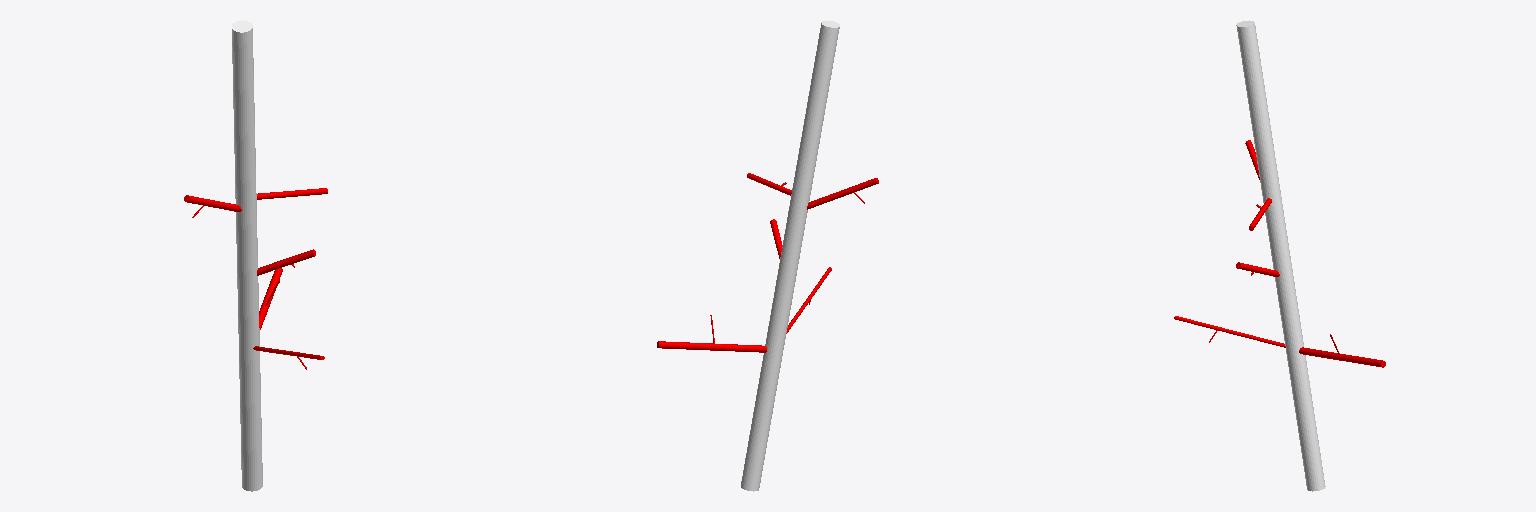
URDF robot description (tree_21.urdf):
<?xml version='1.0' encoding='UTF-8'?>
<robot name="tree_21.urdf">
  <link name="branch_0">
    <inertial>
      <origin xyz="0.0 0.0 0.0" rpy="0.0 -0.0 0.0"/>
      <mass value="0.1"/>
      <inertia ixx="0.001" ixy="0.0" ixz="0.0" iyy="0.001" iyz="0.0" izz="0.001"/>
    </inertial>
    <visual name="branch_0_visual">
      <geometry>
        <cylinder radius="0.12687712250516958" length="6.709048198873801"/>
      </geometry>
      <material name="branch_material"/>
      <origin xyz="-0.34615459006411586 -0.47765721979317016 3.3022496141055044" rpy="5.551115123125783e-17 0.1767705928332889 -2.197902912711305"/>
    </visual>
    <collision name="branch_0_collision">
      <geometry>
        <cylinder radius="0.12687712250516958" length="6.709048198873801"/>
      </geometry>
      <origin xyz="-0.34615459006411586 -0.47765721979317016 3.3022496141055044" rpy="5.551115123125783e-17 0.1767705928332889 -2.197902912711305"/>
    </collision>
  </link>
  <link name="branch_1">
    <inertial>
      <origin xyz="0.0 0.0 0.0" rpy="0.0 -0.0 0.0"/>
      <mass value="0.1"/>
      <inertia ixx="0.001" ixy="0.0" ixz="0.0" iyy="0.001" iyz="0.0" izz="0.001"/>
    </inertial>
    <visual name="branch_1_visual">
      <geometry>
        <cylinder radius="0.042855671939592034" length="1.1986423929638461"/>
      </geometry>
      <material name="semantic_material"/>
      <origin xyz="0.0 0.0 0.0" rpy="0.0 -0.0 0.0"/>
    </visual>
    <collision name="branch_1_collision">
      <geometry>
        <cylinder radius="0.042855671939592034" length="1.1986423929638461"/>
      </geometry>
      <origin xyz="0.0 0.0 0.0" rpy="0.0 -0.0 0.0"/>
    </collision>
  </link>
  <link name="branch_2">
    <inertial>
      <origin xyz="0.0 0.0 0.0" rpy="0.0 -0.0 0.0"/>
      <mass value="0.1"/>
      <inertia ixx="0.001" ixy="0.0" ixz="0.0" iyy="0.001" iyz="0.0" izz="0.001"/>
    </inertial>
    <visual name="branch_2_visual">
      <geometry>
        <cylinder radius="0.01005518302327883" length="0.2539100690972376"/>
      </geometry>
      <material name="semantic_material"/>
      <origin xyz="0.0 0.0 0.0" rpy="0.0 -0.0 0.0"/>
    </visual>
    <collision name="branch_2_collision">
      <geometry>
        <cylinder radius="0.01005518302327883" length="0.2539100690972376"/>
      </geometry>
      <origin xyz="0.0 0.0 0.0" rpy="0.0 -0.0 0.0"/>
    </collision>
  </link>
  <link name="branch_3">
    <inertial>
      <origin xyz="0.0 0.0 0.0" rpy="0.0 -0.0 0.0"/>
      <mass value="0.1"/>
      <inertia ixx="0.001" ixy="0.0" ixz="0.0" iyy="0.001" iyz="0.0" izz="0.001"/>
    </inertial>
    <visual name="branch_3_visual">
      <geometry>
        <cylinder radius="0.037442996157046556" length="0.9996858261192967"/>
      </geometry>
      <material name="semantic_material"/>
      <origin xyz="0.0 0.0 0.0" rpy="0.0 -0.0 0.0"/>
    </visual>
    <collision name="branch_3_collision">
      <geometry>
        <cylinder radius="0.037442996157046556" length="0.9996858261192967"/>
      </geometry>
      <origin xyz="0.0 0.0 0.0" rpy="0.0 -0.0 0.0"/>
    </collision>
  </link>
  <link name="branch_4">
    <inertial>
      <origin xyz="0.0 0.0 0.0" rpy="0.0 -0.0 0.0"/>
      <mass value="0.1"/>
      <inertia ixx="0.001" ixy="0.0" ixz="0.0" iyy="0.001" iyz="0.0" izz="0.001"/>
    </inertial>
    <visual name="branch_4_visual">
      <geometry>
        <cylinder radius="0.014675000629811988" length="0.11622880489106664"/>
      </geometry>
      <material name="semantic_material"/>
      <origin xyz="0.0 0.0 0.0" rpy="0.0 -0.0 0.0"/>
    </visual>
    <collision name="branch_4_collision">
      <geometry>
        <cylinder radius="0.014675000629811988" length="0.11622880489106664"/>
      </geometry>
      <origin xyz="0.0 0.0 0.0" rpy="0.0 -0.0 0.0"/>
    </collision>
  </link>
  <link name="branch_5">
    <inertial>
      <origin xyz="0.0 0.0 0.0" rpy="0.0 -0.0 0.0"/>
      <mass value="0.1"/>
      <inertia ixx="0.001" ixy="0.0" ixz="0.0" iyy="0.001" iyz="0.0" izz="0.001"/>
    </inertial>
    <visual name="branch_5_visual">
      <geometry>
        <cylinder radius="0.026214916295196917" length="1.7043222168082077"/>
      </geometry>
      <material name="semantic_material"/>
      <origin xyz="0.0 0.0 0.0" rpy="0.0 -0.0 0.0"/>
    </visual>
    <collision name="branch_5_collision">
      <geometry>
        <cylinder radius="0.026214916295196917" length="1.7043222168082077"/>
      </geometry>
      <origin xyz="0.0 0.0 0.0" rpy="0.0 -0.0 0.0"/>
    </collision>
  </link>
  <link name="branch_6">
    <inertial>
      <origin xyz="0.0 0.0 0.0" rpy="0.0 -0.0 0.0"/>
      <mass value="0.1"/>
      <inertia ixx="0.001" ixy="0.0" ixz="0.0" iyy="0.001" iyz="0.0" izz="0.001"/>
    </inertial>
    <visual name="branch_6_visual">
      <geometry>
        <cylinder radius="0.01" length="0.22334523871385759"/>
      </geometry>
      <material name="semantic_material"/>
      <origin xyz="0.0 0.0 0.0" rpy="0.0 -0.0 0.0"/>
    </visual>
    <collision name="branch_6_collision">
      <geometry>
        <cylinder radius="0.01" length="0.22334523871385759"/>
      </geometry>
      <origin xyz="0.0 0.0 0.0" rpy="0.0 -0.0 0.0"/>
    </collision>
  </link>
  <link name="branch_7">
    <inertial>
      <origin xyz="0.0 0.0 0.0" rpy="0.0 -0.0 0.0"/>
      <mass value="0.1"/>
      <inertia ixx="0.001" ixy="0.0" ixz="0.0" iyy="0.001" iyz="0.0" izz="0.001"/>
    </inertial>
    <visual name="branch_7_visual">
      <geometry>
        <cylinder radius="0.04362045346198234" length="0.9346518274863176"/>
      </geometry>
      <material name="semantic_material"/>
      <origin xyz="0.0 0.0 0.0" rpy="0.0 -0.0 0.0"/>
    </visual>
    <collision name="branch_7_collision">
      <geometry>
        <cylinder radius="0.04362045346198234" length="0.9346518274863176"/>
      </geometry>
      <origin xyz="0.0 0.0 0.0" rpy="0.0 -0.0 0.0"/>
    </collision>
  </link>
  <link name="branch_8">
    <inertial>
      <origin xyz="0.0 0.0 0.0" rpy="0.0 -0.0 0.0"/>
      <mass value="0.1"/>
      <inertia ixx="0.001" ixy="0.0" ixz="0.0" iyy="0.001" iyz="0.0" izz="0.001"/>
    </inertial>
    <visual name="branch_8_visual">
      <geometry>
        <cylinder radius="0.012177566500604649" length="0.09985740832670245"/>
      </geometry>
      <material name="semantic_material"/>
      <origin xyz="0.0 0.0 0.0" rpy="0.0 -0.0 0.0"/>
    </visual>
    <collision name="branch_8_collision">
      <geometry>
        <cylinder radius="0.012177566500604649" length="0.09985740832670245"/>
      </geometry>
      <origin xyz="0.0 0.0 0.0" rpy="0.0 -0.0 0.0"/>
    </collision>
  </link>
  <link name="branch_9">
    <inertial>
      <origin xyz="0.0 0.0 0.0" rpy="0.0 -0.0 0.0"/>
      <mass value="0.1"/>
      <inertia ixx="0.001" ixy="0.0" ixz="0.0" iyy="0.001" iyz="0.0" izz="0.001"/>
    </inertial>
    <visual name="branch_9_visual">
      <geometry>
        <cylinder radius="0.04762932611786451" length="1.6474353416190402"/>
      </geometry>
      <material name="semantic_material"/>
      <origin xyz="0.0 0.0 0.0" rpy="0.0 -0.0 0.0"/>
    </visual>
    <collision name="branch_9_collision">
      <geometry>
        <cylinder radius="0.04762932611786451" length="1.6474353416190402"/>
      </geometry>
      <origin xyz="0.0 0.0 0.0" rpy="0.0 -0.0 0.0"/>
    </collision>
  </link>
  <link name="branch_10">
    <inertial>
      <origin xyz="0.0 0.0 0.0" rpy="0.0 -0.0 0.0"/>
      <mass value="0.1"/>
      <inertia ixx="0.001" ixy="0.0" ixz="0.0" iyy="0.001" iyz="0.0" izz="0.001"/>
    </inertial>
    <visual name="branch_10_visual">
      <geometry>
        <cylinder radius="0.010352505049374738" length="0.4345279849491569"/>
      </geometry>
      <material name="semantic_material"/>
      <origin xyz="0.0 0.0 0.0" rpy="0.0 -0.0 0.0"/>
    </visual>
    <collision name="branch_10_collision">
      <geometry>
        <cylinder radius="0.010352505049374738" length="0.4345279849491569"/>
      </geometry>
      <origin xyz="0.0 0.0 0.0" rpy="0.0 -0.0 0.0"/>
    </collision>
  </link>
  <joint name="joint_0_1" type="fixed">
    <parent link="branch_0"/>
    <child link="branch_1"/>
    <axis xyz="1. 0. 0."/>
    <origin xyz="-0.9253924249673425 -0.7456443940661458 4.225620174486606" rpy="-0.24651760756612298 1.1007764113903356 -3.090546401862894"/>
  </joint>
  <joint name="joint_0_3" type="fixed">
    <parent link="branch_0"/>
    <child link="branch_3"/>
    <axis xyz="1. 0. 0."/>
    <origin xyz="0.04522105014693553 -0.740305593782125 4.131552586761972" rpy="1.6922809670256325 1.4025384458253016 1.404079988521482"/>
  </joint>
  <joint name="joint_0_5" type="fixed">
    <parent link="branch_0"/>
    <child link="branch_5"/>
    <axis xyz="1. 0. 0."/>
    <origin xyz="-0.1710246929826888 -1.1015514743405186 2.2365771996829076" rpy="0.3761050349678311 1.251050131987928 -1.1307887386580957"/>
  </joint>
  <joint name="joint_0_7" type="fixed">
    <parent link="branch_0"/>
    <child link="branch_7"/>
    <axis xyz="1. 0. 0."/>
    <origin xyz="-0.03385145150568965 -0.7457808527759798 3.2311004741445437" rpy="0.3747308456785877 1.073024765827578 -0.40737750657382343"/>
  </joint>
  <joint name="joint_0_9" type="fixed">
    <parent link="branch_0"/>
    <child link="branch_9"/>
    <axis xyz="1. 0. 0."/>
    <origin xyz="0.34214060437287785 0.3113918413651141 2.1178889736551465" rpy="0.11141495741289019 1.388695120106786 0.9402977324958356"/>
  </joint>
  <joint name="joint_1_2" type="fixed">
    <parent link="branch_0"/>
    <child link="branch_2"/>
    <axis xyz="1. 0. 0."/>
    <origin xyz="-1.2002632599870178 -0.8107770614148345 4.238886091277409" rpy="-2.810792418632543 0.8816610886592149 0.4818452392416609"/>
  </joint>
  <joint name="joint_3_4" type="fixed">
    <parent link="branch_0"/>
    <child link="branch_4"/>
    <axis xyz="1. 0. 0."/>
    <origin xyz="-0.06247271273508377 -0.7614948842187286 4.159187521466142" rpy="-1.1077127408109897 0.07287072511713799 2.6701601681765483"/>
  </joint>
  <joint name="joint_5_6" type="fixed">
    <parent link="branch_0"/>
    <child link="branch_6"/>
    <axis xyz="1. 0. 0."/>
    <origin xyz="-0.12206699037845259 -1.3857530675806629 2.220125592843349" rpy="2.7360274943795533 0.6034795735254694 1.4827769669228066"/>
  </joint>
  <joint name="joint_7_8" type="fixed">
    <parent link="branch_0"/>
    <child link="branch_8"/>
    <axis xyz="1. 0. 0."/>
    <origin xyz="0.05716936990655572 -0.8505655029770615 3.247796292030326" rpy="-3.0360281173229233 0.8121976989792339 2.354028052310556"/>
  </joint>
  <joint name="joint_9_10" type="fixed">
    <parent link="branch_0"/>
    <child link="branch_10"/>
    <axis xyz="1. 0. 0."/>
    <origin xyz="0.42100440100981884 0.2591446947300797 2.3175387937576755" rpy="-0.44212787075932536 0.05192890724265196 -2.252557598555356"/>
  </joint>
  <material name="branch_material">
    <color rgba="1. 1. 1. 1."/>
  </material>
  <material name="semantic_material">
    <color rgba="1. 0. 0. 1."/>
  </material>
</robot>

--- What the picture shows (computed from the rendered views, not written in the file) ---
The picture shows the robot from 3 angles, left to right: view 1: azimuth 30°, elevation 25°; view 2: azimuth 150°, elevation 25°; view 3: azimuth 270°, elevation 25°; orthographic projection.
Model tree_21.urdf with 11 links and 10 joints (10 fixed), rooted at branch_0, posed all joints at 0.
Links seen in each view (by area): view 1: branch_0; view 2: branch_0, branch_9; view 3: branch_0, branch_9.
Boxes of the visible links, x1,y1,x2,y2 form: branch_0: (232,20,262,491); branch_0: (741,20,839,491); branch_9: (657,341,766,352); branch_0: (1236,20,1325,491); branch_9: (1299,347,1385,367).
Bounding box of the posed robot: 2.38 × 2.86 × 6.65 m (x, y, z).
Geometry: primitives only (box / cylinder / sphere), no mesh files.